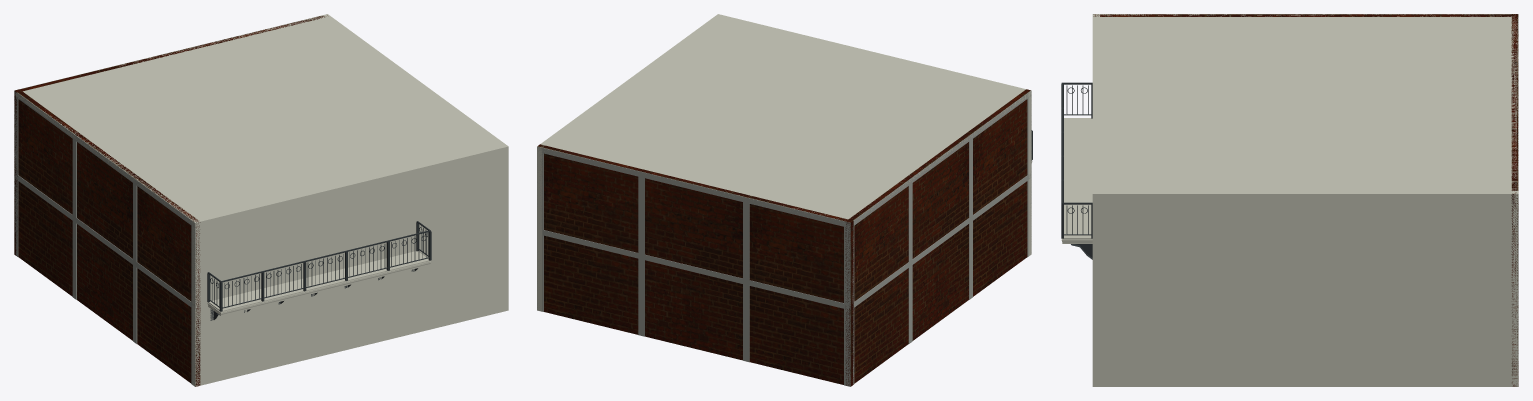
Rendered from building.glb.
The picture shows the model from 3 angles, left to right: view 1: azimuth 30°, elevation 25°; view 2: azimuth 150°, elevation 25°; view 3: azimuth 270°, elevation 25°; orthographic projection. The views are drawn at different scales.
Parts seen in each view (by area): view 1: roof/house:0/roof_slab#0001, house:0/edge0/z0/house:0/edge0/z0/wall_0_0, house:0/edge3/z0/house:0/edge3/z0/wall_0_0, balcony/sample/balcony_platform#0001, house:0/edge2/z0/house:0/edge2/z0/wall_0_0, house:0/edge3/z0/house:0/edge3/z0/beam_0_0, house:0/edge3/z0/house:0/edge3/z0/beam_1_0, house:0/edge1/z0/house:0/edge1/z0/wall_0_0, balcony/sample/balcony_fascia#0001, balcony/sample/balcony_handrail#0001; view 2: roof/house:0/roof_slab#0001, house:0/edge2/z0/house:0/edge2/z0/wall_0_0, house:0/edge3/z0/house:0/edge3/z0/wall_0_0, house:0/edge1/z0/house:0/edge1/z0/wall_0_0, house:0/edge2/z0/house:0/edge2/z0/beam_1_0, house:0/edge2/z0/house:0/edge2/z0/beam_0_0, house:0/edge0/z0/house:0/edge0/z0/wall_0_0, house:0/edge3/z0/house:0/edge3/z0/beam_0_0, house:0/edge3/z0/house:0/edge3/z0/beam_1_0, house:0/edge2/z0/house:0/edge2/z0/column_2_0, house:0/edge2/z0/house:0/edge2/z0/column_2_1, house:0/edge2/z0/house:0/edge2/z0/column_3_0 (+3 smaller); view 3: house:0/edge1/z0/house:0/edge1/z0/wall_0_0, roof/house:0/roof_slab#0001, balcony/sample/balcony_platform#0001, house:0/edge0/z0/house:0/edge0/z0/wall_0_0, house:0/edge2/z0/house:0/edge2/z0/wall_0_0, house:0/edge3/z0/house:0/edge3/z0/wall_0_0, balcony/sample/balcony_handrail#0001.
Boxes of the visible parts, x1,y1,x2,y2 form: roof/house:0/roof_slab#0001: (15,14,506,225); house:0/edge0/z0/house:0/edge0/z0/wall_0_0: (192,144,508,386); house:0/edge3/z0/house:0/edge3/z0/wall_0_0: (17,89,200,386); balcony/sample/balcony_platform#0001: (208,251,429,312); house:0/edge2/z0/house:0/edge2/z0/wall_0_0: (14,15,327,255); house:0/edge3/z0/house:0/edge3/z0/beam_0_0: (14,173,195,309); house:0/edge3/z0/house:0/edge3/z0/beam_1_0: (14,92,195,227); house:0/edge1/z0/house:0/edge1/z0/wall_0_0: (323,14,508,311); balcony/sample/balcony_fascia#0001: (207,261,430,315); balcony/sample/balcony_handrail#0001: (207,221,430,282); roof/house:0/roof_slab#0001: (540,14,1031,223); house:0/edge2/z0/house:0/edge2/z0/wall_0_0: (538,144,853,386); house:0/edge3/z0/house:0/edge3/z0/wall_0_0: (845,89,1030,385); house:0/edge1/z0/house:0/edge1/z0/wall_0_0: (537,15,722,311); house:0/edge2/z0/house:0/edge2/z0/beam_1_0: (538,147,850,228); house:0/edge2/z0/house:0/edge2/z0/beam_0_0: (542,230,850,309); house:0/edge0/z0/house:0/edge0/z0/wall_0_0: (717,14,1031,256); house:0/edge3/z0/house:0/edge3/z0/beam_0_0: (850,172,1031,309); house:0/edge3/z0/house:0/edge3/z0/beam_1_0: (850,90,1031,227); house:0/edge2/z0/house:0/edge2/z0/column_2_0: (638,176,644,254); house:0/edge2/z0/house:0/edge2/z0/column_2_1: (638,258,644,336); house:0/edge2/z0/house:0/edge2/z0/column_3_0: (743,202,749,280); house:0/edge1/z0/house:0/edge1/z0/wall_0_0: (1092,191,1518,386); roof/house:0/roof_slab#0001: (1092,14,1518,198); balcony/sample/balcony_platform#0001: (1063,118,1092,239); house:0/edge0/z0/house:0/edge0/z0/wall_0_0: (1092,14,1099,386); house:0/edge2/z0/house:0/edge2/z0/wall_0_0: (1511,14,1518,386); house:0/edge3/z0/house:0/edge3/z0/wall_0_0: (1093,14,1517,16); balcony/sample/balcony_handrail#0001: (1061,82,1092,204).
Size of the model in its own units: 12 by 6 by 12.89.
Materials: 4 (1 with a texture image).
